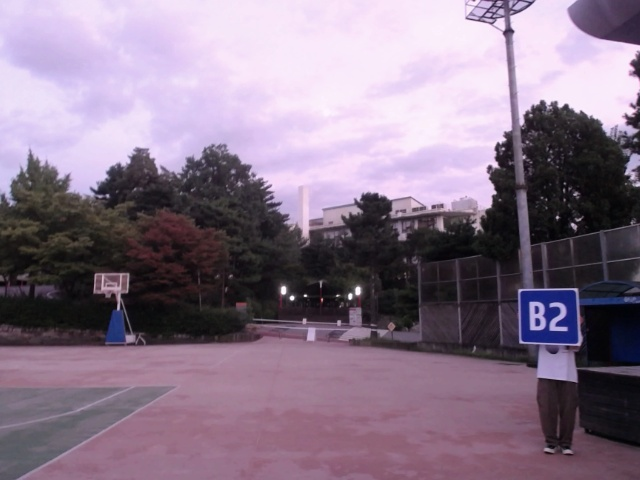delivery_b2: (517, 288, 583, 346)
